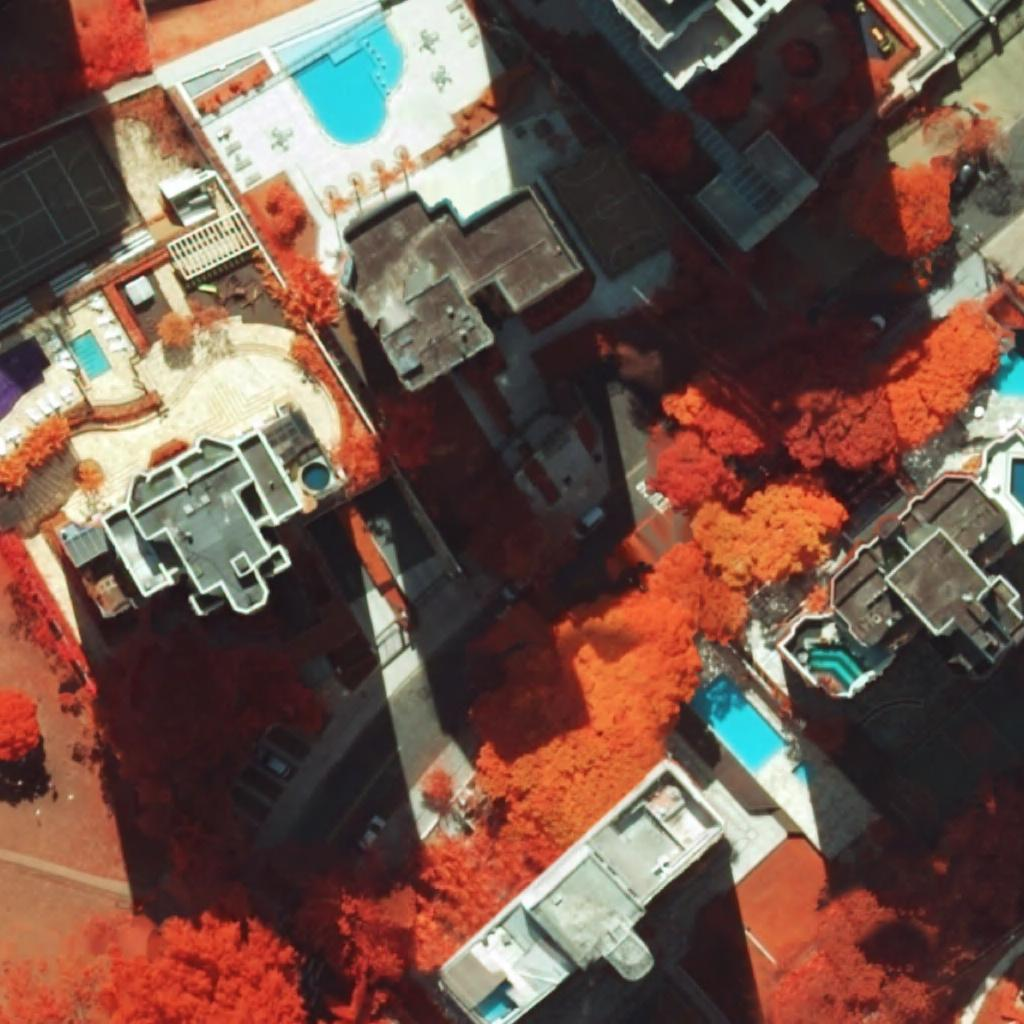pool: (285, 10, 404, 145), (692, 672, 788, 772), (0, 336, 52, 421), (809, 646, 865, 689), (68, 329, 112, 382), (473, 979, 518, 1023), (988, 350, 1024, 398), (302, 462, 330, 491), (1010, 458, 1024, 508), (792, 761, 809, 784)
